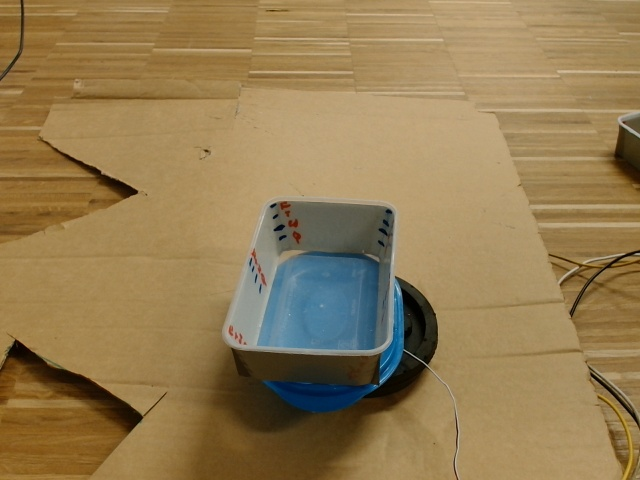Small_zero: (220, 193, 398, 359)
